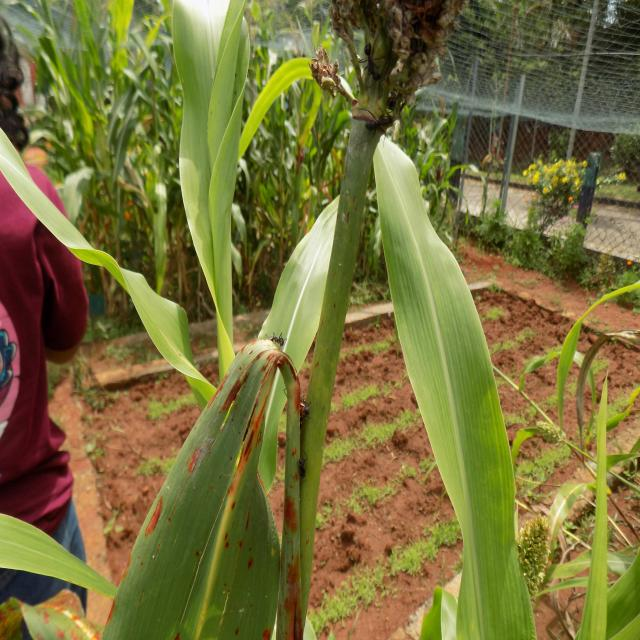millet_healthy: (373, 136, 524, 640), (164, 0, 335, 360)
